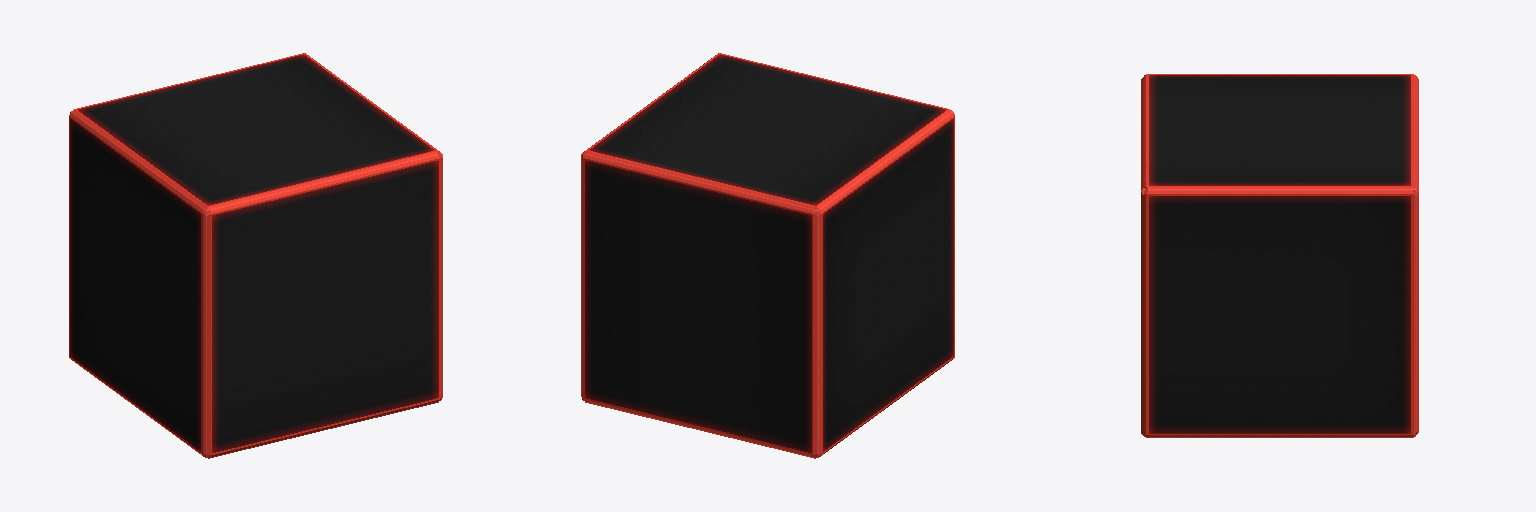
3 renders of one model, left to right at view 1: azimuth 30°, elevation 25°; view 2: azimuth 150°, elevation 25°; view 3: azimuth 270°, elevation 25°, orthographic.
Size of the model in its own units: 17.9 by 17.9 by 17.9.
1 materials, 1 textured.